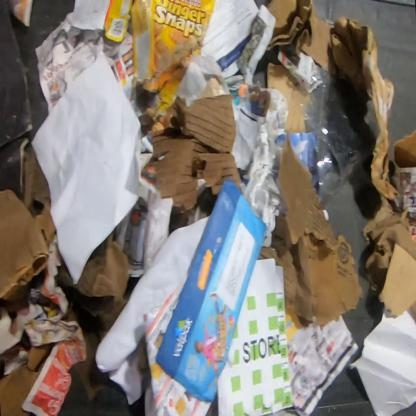cardboard: (265, 0, 401, 207), (256, 134, 366, 329), (103, 0, 217, 128), (54, 226, 132, 405), (145, 94, 241, 232), (0, 141, 57, 314), (0, 0, 35, 202), (0, 342, 51, 416), (377, 242, 415, 320), (266, 62, 305, 134), (388, 129, 415, 221)
rigid_plastic: (290, 62, 376, 197)
